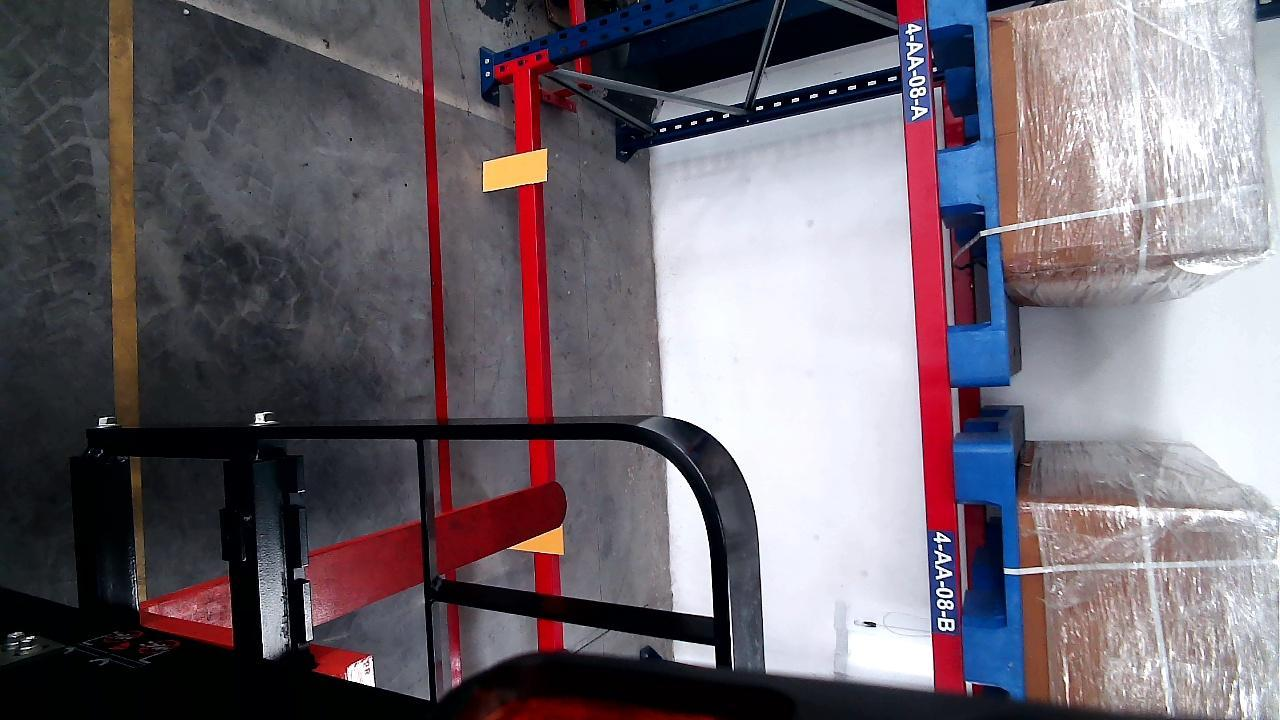red_line: (417, 0, 459, 688)
yellow_line: (109, 0, 139, 420)
